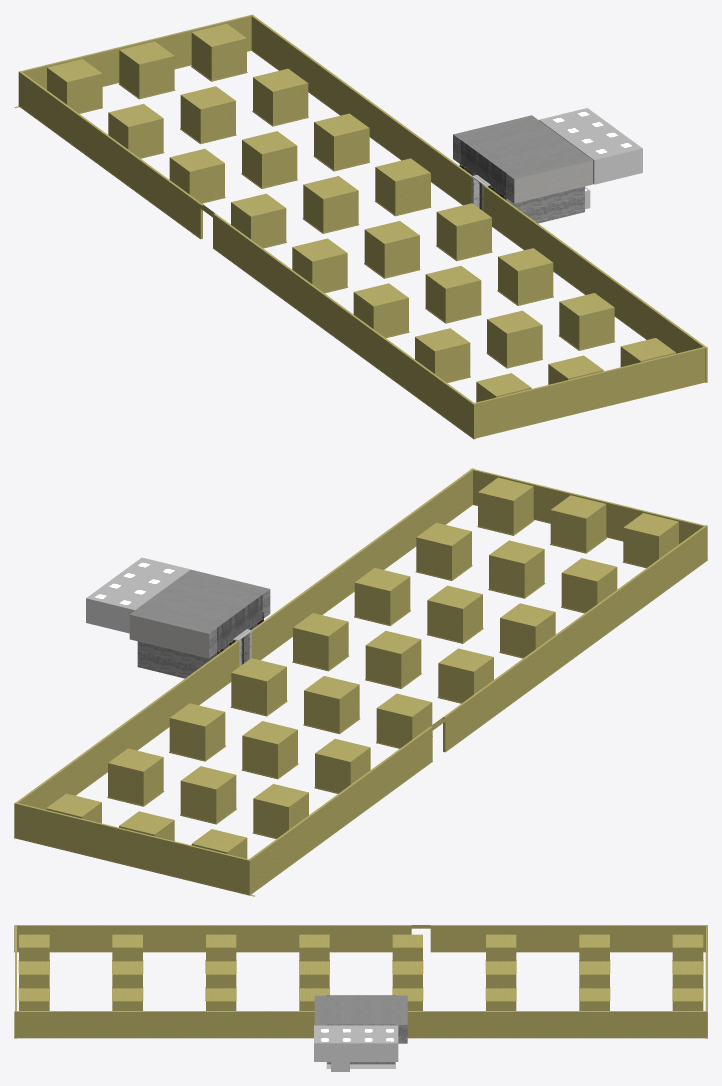
The model's file is Exit.fbx.
The picture shows the model from 3 angles, top to bottom: view 1: azimuth 30°, elevation 25°; view 2: azimuth 150°, elevation 25°; view 3: azimuth 270°, elevation 25°; orthographic projection. The views are drawn at different scales.
Visible parts, largest first — view 1: Cube.2911, Cube.2914, Navkolo.001, Cube.2912, Cube.2910, Cube.2909, Cube.2913, Mikroshemu 2.001; view 2: Cube.2911, Cube.2914, Navkolo.001, Cube.2913, Cube.2909, Cube.2910, Cube.2912, Mikroshemu 2.001; view 3: Cube.2911, Cube.2914, Cube.2910, Cube.2909, Navkolo.001, Cube.2913, Floor.007.
Boxes of the visible parts, x1,y1,x2,y2 form: Cube.2911: [47, 23, 675, 402]; Cube.2914: [18, 71, 476, 439]; Navkolo.001: [453, 108, 642, 223]; Cube.2912: [473, 346, 707, 438]; Cube.2910: [251, 15, 472, 205]; Cube.2909: [484, 186, 707, 382]; Cube.2913: [14, 14, 253, 108]; Mikroshemu 2.001: [461, 140, 506, 199]; Cube.2911: [46, 477, 678, 858]; Cube.2914: [247, 525, 707, 895]; Navkolo.001: [86, 557, 270, 678]; Cube.2913: [14, 802, 255, 896]; Cube.2909: [251, 468, 474, 660]; Cube.2910: [15, 641, 239, 809]; Cube.2912: [470, 468, 706, 543]; Mikroshemu 2.001: [217, 594, 262, 654]; Cube.2911: [18, 934, 703, 1010]; Cube.2914: [14, 925, 707, 952]; Cube.2910: [407, 1011, 705, 1038]; Cube.2909: [14, 1011, 314, 1038]; Navkolo.001: [314, 995, 407, 1071]; Cube.2913: [705, 925, 707, 1038]; Floor.007: [326, 1062, 395, 1068].
Bounding box in the file's own units: 5379 × 810 × 11457.
